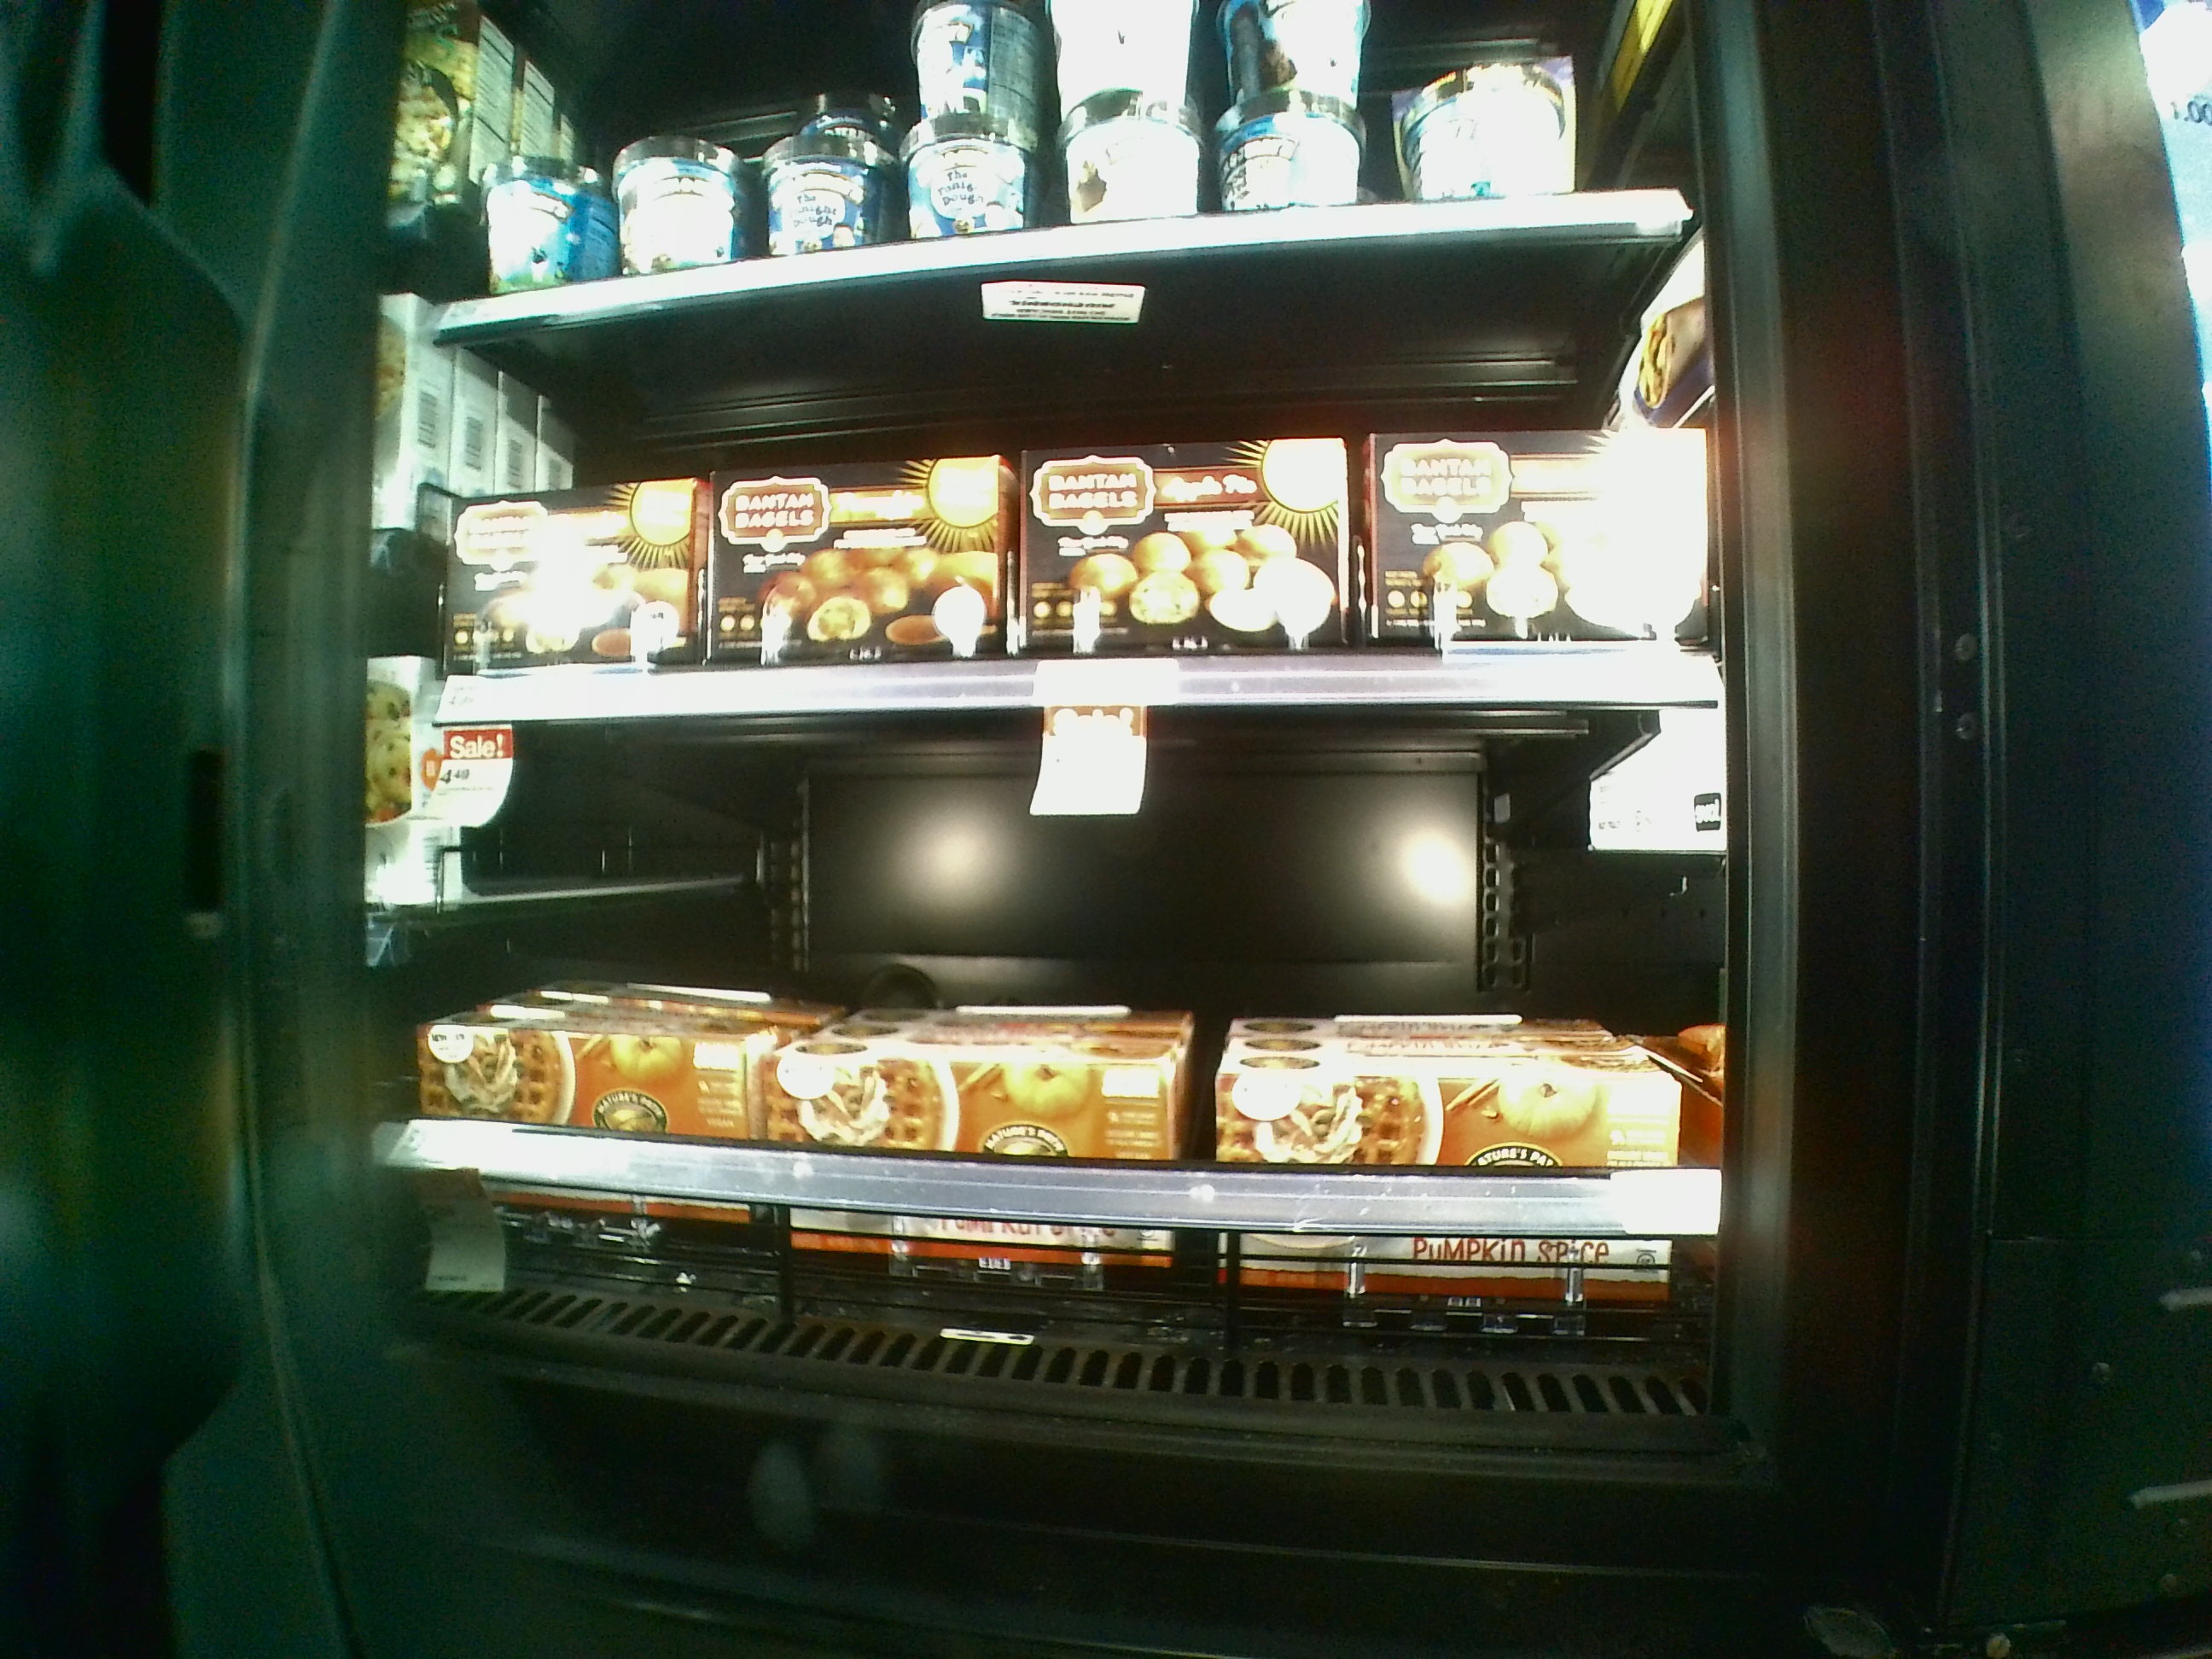shelf: (404, 716, 1735, 1406), (420, 314, 1730, 708)
